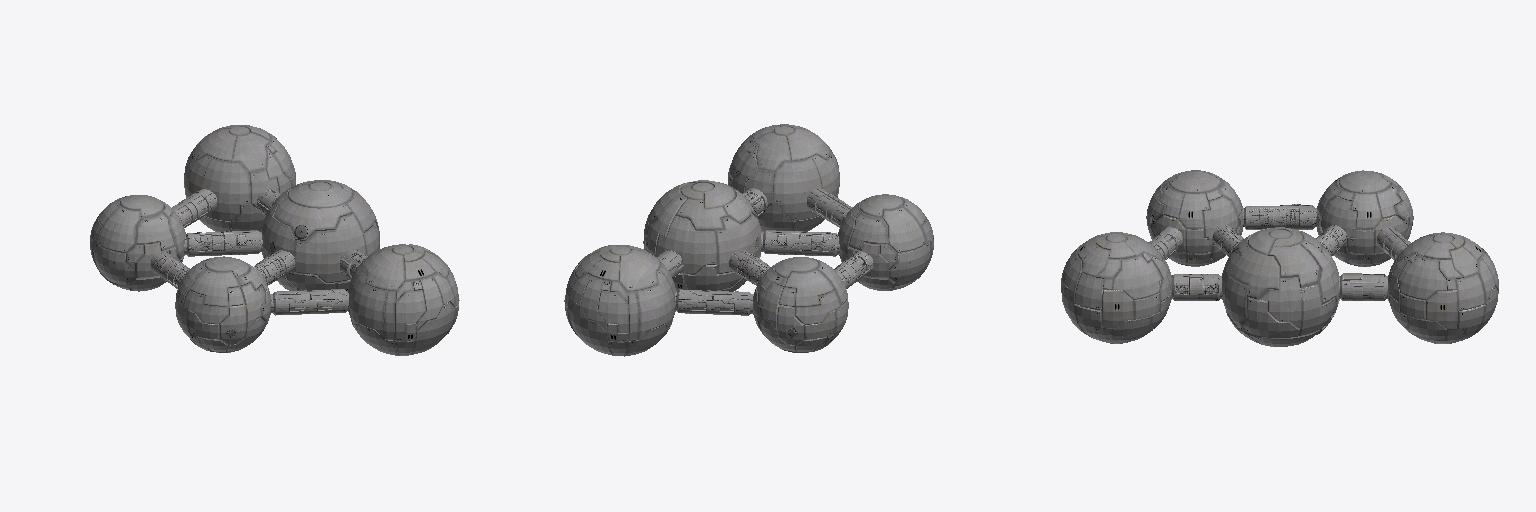
3 renders of one model, left to right at view 1: azimuth 30°, elevation 25°; view 2: azimuth 150°, elevation 25°; view 3: azimuth 270°, elevation 25°, orthographic.
Visible parts, largest first — view 1: empire_garmisch_3; view 2: empire_garmisch_3; view 3: empire_garmisch_3.
Part boxes in pixels (left/top/right/bottom): empire_garmisch_3: left=90, top=125, right=459, bottom=355; empire_garmisch_3: left=564, top=124, right=933, bottom=356; empire_garmisch_3: left=1061, top=170, right=1498, bottom=346.
Bounding box in the file's own units: 4065 × 1805 × 6606.
Materials: 1 (1 with a texture image).